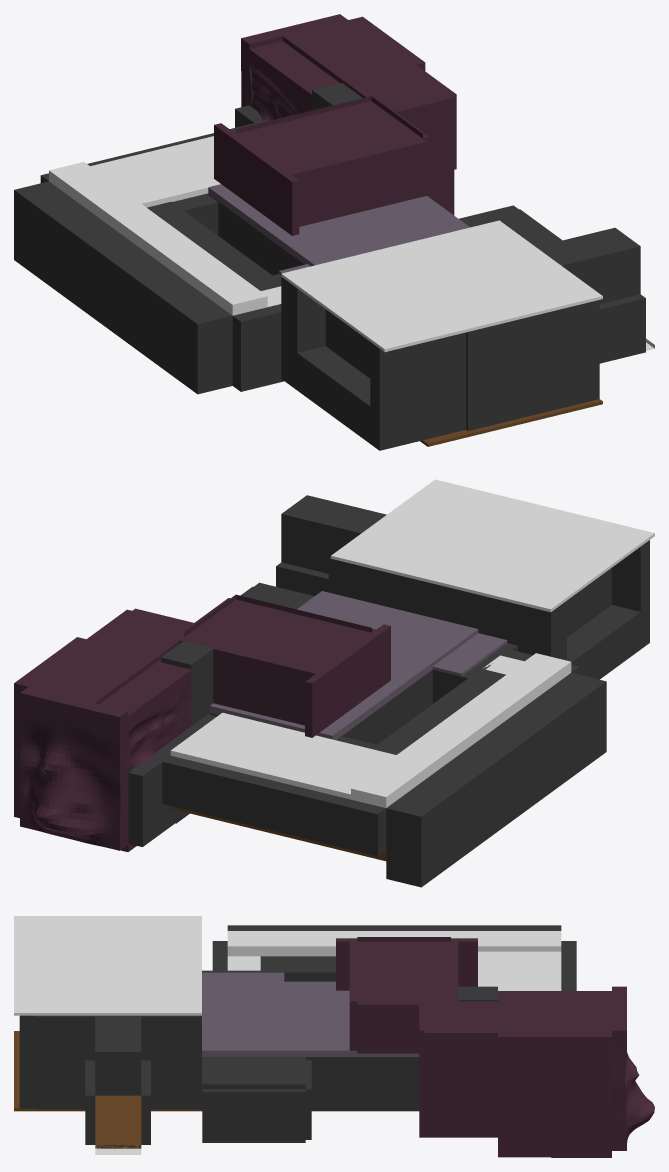
The model's file is map1.glb.
3 renders of one model, top to bottom at view 1: azimuth 30°, elevation 25°; view 2: azimuth 150°, elevation 25°; view 3: azimuth 270°, elevation 25°, orthographic. The views are drawn at different scales.
Visible parts, largest first — view 1: Cube.055, Cube.043, Cube.054, Cube.058, Cube.044, Cube.028, Cube.075, Cube.061, Cube.071, Cube.051, Cube.063, Cube.078 (+15 smaller); view 2: Cube.055, Cube.043, Cube.070, Cube.048, Cube.054, Cube.051, Cube.044, Cube.028, Cube.075, Cube.071, Cube.062, Cube.063 (+15 smaller); view 3: Cube.055, Cube.069, Cube.028, Cube.075, Cube.071, Cube.027, Cube.016, Cube.044, Cube.077, Cube.076, Cube.068, Cube.078 (+23 smaller).
Part boxes in pixels (left/top/right/bottom): Cube.055: left=281, top=220, right=602, bottom=352; Cube.043: left=14, top=181, right=232, bottom=394; Cube.054: left=281, top=277, right=466, bottom=450; Cube.058: left=466, top=300, right=599, bottom=430; Cube.044: left=49, top=162, right=267, bottom=315; Cube.028: left=208, top=184, right=469, bottom=266; Cube.075: left=236, top=96, right=422, bottom=171; Cube.061: left=288, top=139, right=426, bottom=226; Cube.071: left=282, top=20, right=450, bottom=110; Cube.051: left=90, top=136, right=220, bottom=207; Cube.063: left=214, top=123, right=299, bottom=235; Cube.078: left=536, top=227, right=640, bottom=303; Cube.055: left=331, top=479, right=654, bottom=612; Cube.043: left=386, top=672, right=606, bottom=887; Cube.070: left=20, top=687, right=130, bottom=850; Cube.048: left=162, top=755, right=386, bottom=856; Cube.054: left=463, top=540, right=649, bottom=679; Cube.051: left=170, top=712, right=396, bottom=799; Cube.044: left=351, top=653, right=571, bottom=807; Cube.028: left=209, top=591, right=478, bottom=740; Cube.075: left=184, top=594, right=371, bottom=670; Cube.071: left=28, top=611, right=192, bottom=703; Cube.062: left=179, top=637, right=319, bottom=725; Cube.063: left=305, top=624, right=390, bottom=737; Cube.055: left=14, top=916, right=201, bottom=1015; Cube.069: left=498, top=1030, right=611, bottom=1157; Cube.028: left=202, top=981, right=419, bottom=1056; Cube.075: left=357, top=937, right=450, bottom=1001; Cube.071: left=424, top=1001, right=611, bottom=1030; Cube.027: left=202, top=1089, right=305, bottom=1142; Cube.016: left=202, top=1060, right=419, bottom=1110; Cube.044: left=227, top=931, right=561, bottom=956; Cube.077: left=34, top=1015, right=95, bottom=1109; Cube.076: left=141, top=1015, right=201, bottom=1109; Cube.068: left=424, top=1030, right=497, bottom=1100; Cube.078: left=95, top=1015, right=141, bottom=1095.
Bounding box in the file's own units: 53.61 × 19.41 × 85.17.
